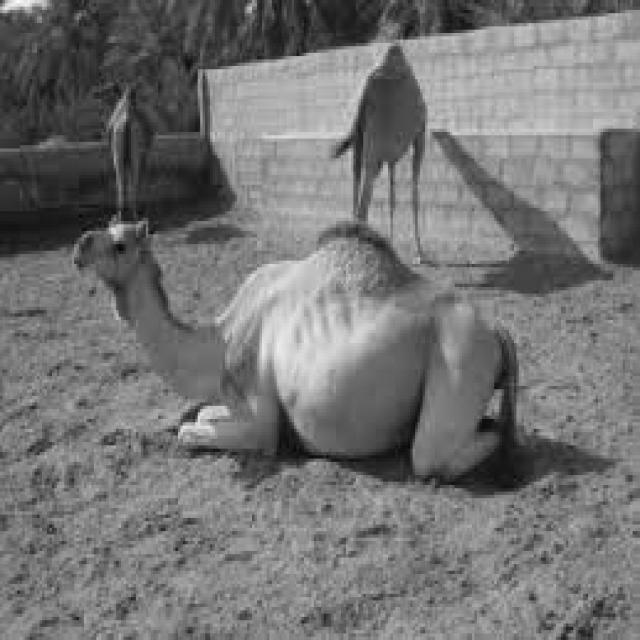Camel: (72, 216, 531, 485)
